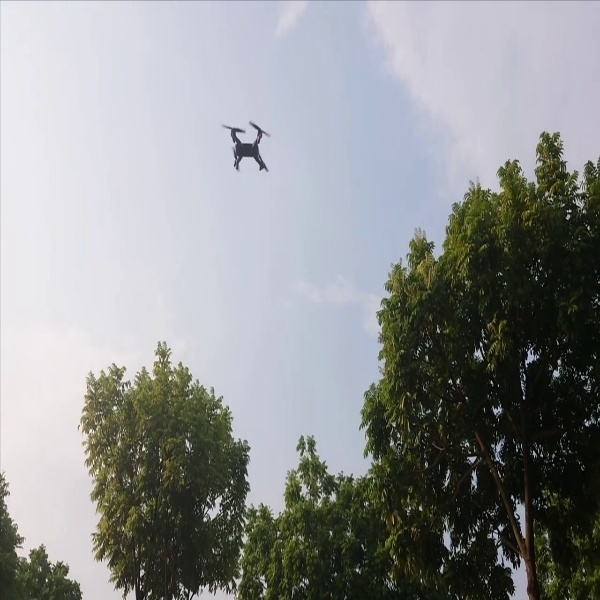drone: (215, 110, 281, 178)
